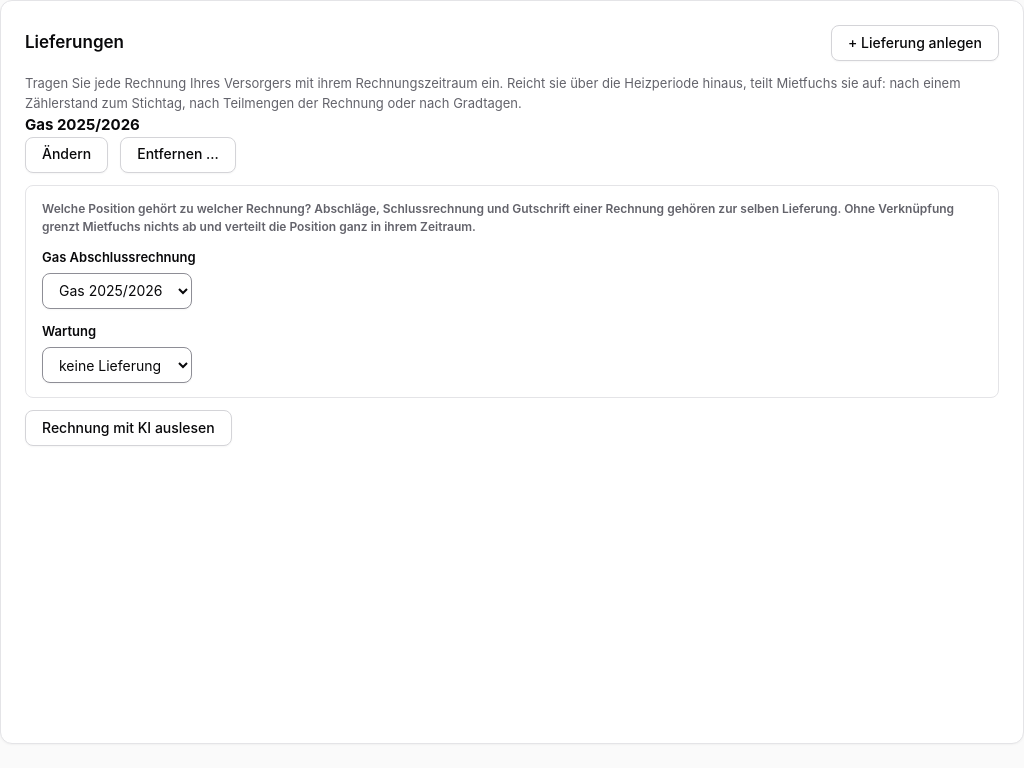
Scenario: Eine Verknüpfung verwerfen stellt die gespeicherte her, ohne zu senden (#309)
Select "keine Lieferung" in the dropdown named "Lieferung zu „Gas Abschlussrechnung“" at (117,291), box 42,273 -> 192,309
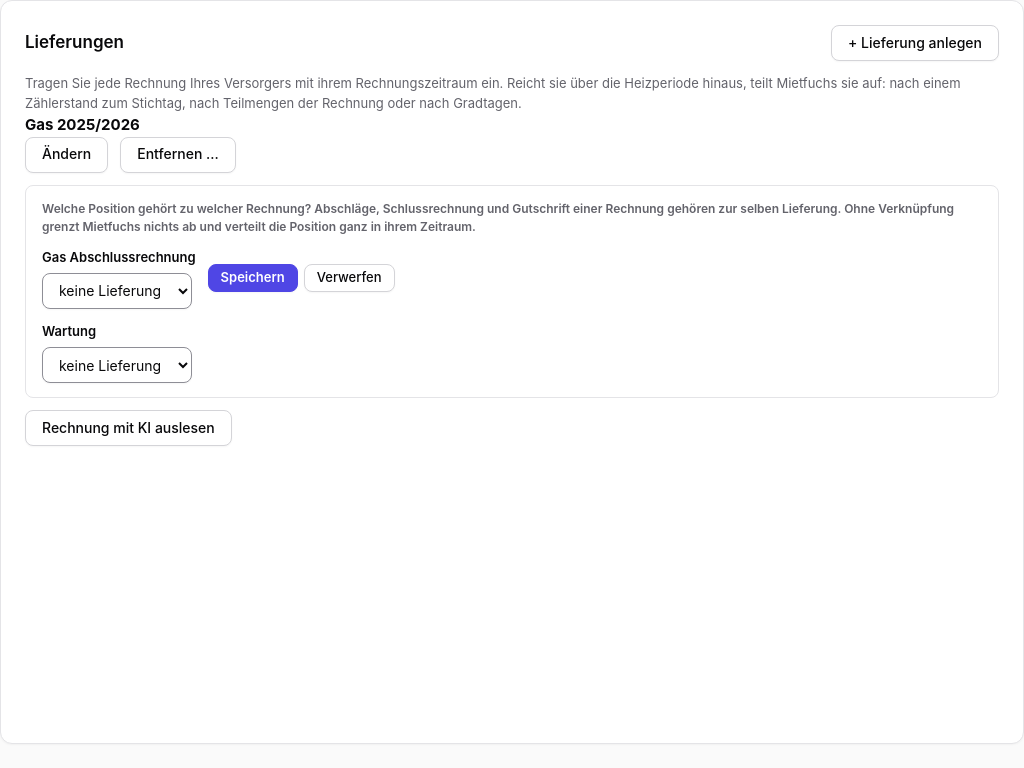
Click the button named "Verwerfen (Lieferung zu „Gas Abschlussrechnung“)" at (349,278), box 304,264 -> 394,292
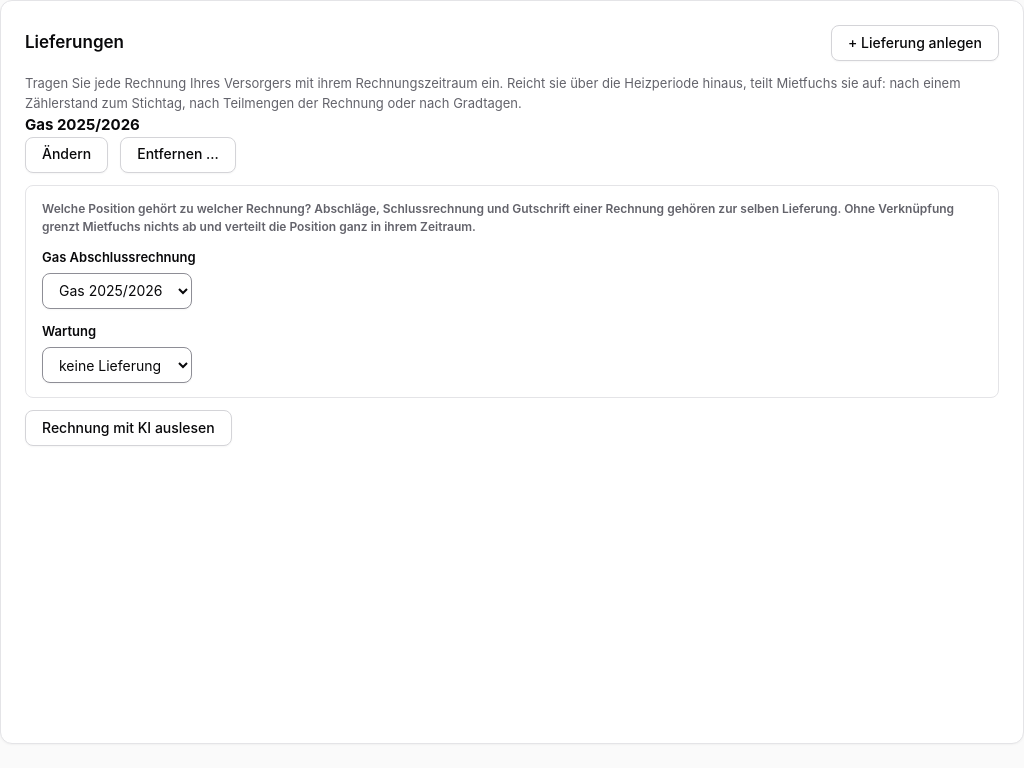
Now the button "Speichern" is gone
